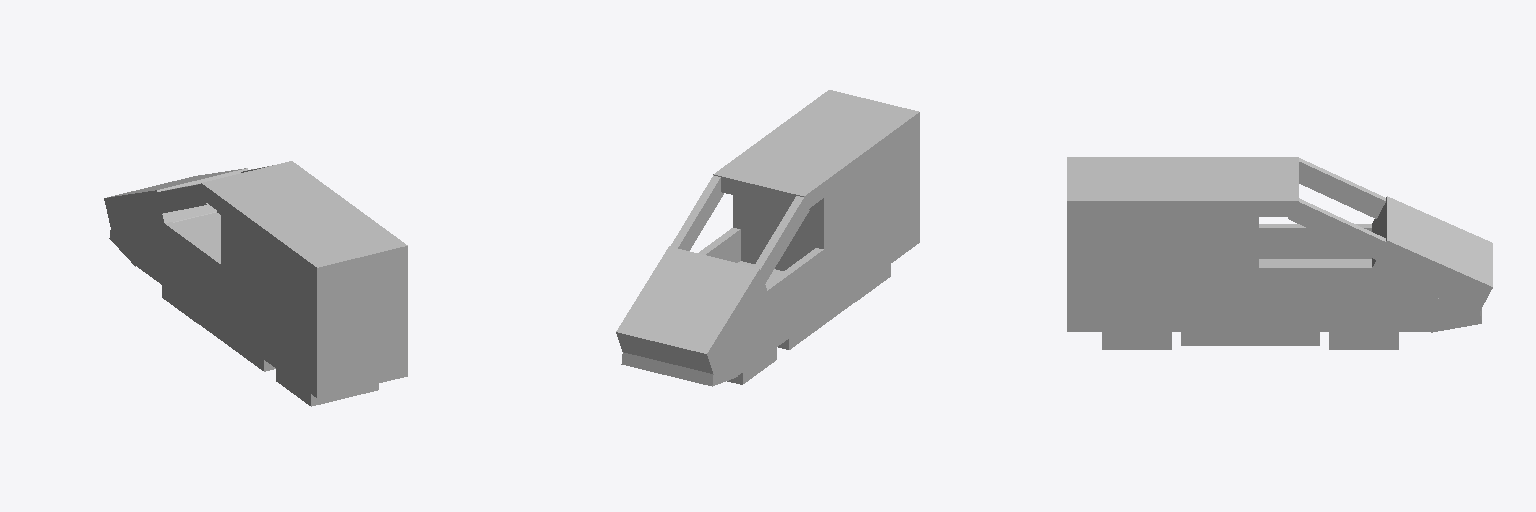
Rendered from ModelNewHighSpeedLoco.obj.
3 renders of one model, left to right at view 1: azimuth 30°, elevation 25°; view 2: azimuth 150°, elevation 25°; view 3: azimuth 270°, elevation 25°, orthographic.
Parts seen in each view (by area): view 1: box2, box1, Body, NoseCone0, box4, box, Underbody, WheelBase0, NoseCone; view 2: box1, NoseCone0, box2, Body, box4, NoseCone, box, box0, Underbody, box3, WheelBase; view 3: box2, box1, Body, NoseCone0, box3, box4, box0, box, Underbody, NoseCone, WheelBase, WheelBase0.
Part boxes in pixels (x1,y1,x2,y2): box2: (221, 214, 407, 366); box1: (201, 161, 407, 283); Body: (133, 212, 407, 398); NoseCone0: (104, 168, 247, 231); box4: (131, 222, 220, 295); box: (157, 184, 208, 213); Underbody: (194, 309, 275, 371); WheelBase0: (276, 369, 378, 406); NoseCone: (109, 212, 215, 266); box1: (713, 90, 919, 211); NoseCone0: (616, 246, 766, 373); box2: (733, 128, 919, 280); Body: (736, 211, 919, 375); box4: (734, 248, 823, 346); NoseCone: (621, 344, 740, 386); box: (754, 196, 809, 283); box0: (670, 175, 723, 250); Underbody: (778, 288, 858, 349); box3: (698, 228, 740, 262); WheelBase: (727, 348, 776, 384); box2: (1067, 217, 1258, 299); box1: (1067, 157, 1298, 216); Body: (1067, 259, 1432, 331); NoseCone0: (1372, 196, 1492, 313); box3: (1259, 265, 1437, 299); box4: (1259, 224, 1371, 258); box0: (1288, 198, 1386, 259); box: (1299, 158, 1385, 218); Underbody: (1181, 332, 1319, 345); NoseCone: (1424, 293, 1481, 332); WheelBase: (1329, 332, 1398, 349); WheelBase0: (1102, 332, 1171, 349).
Bounding box in the file's own units: 1.5 × 2.44 × 6.09.